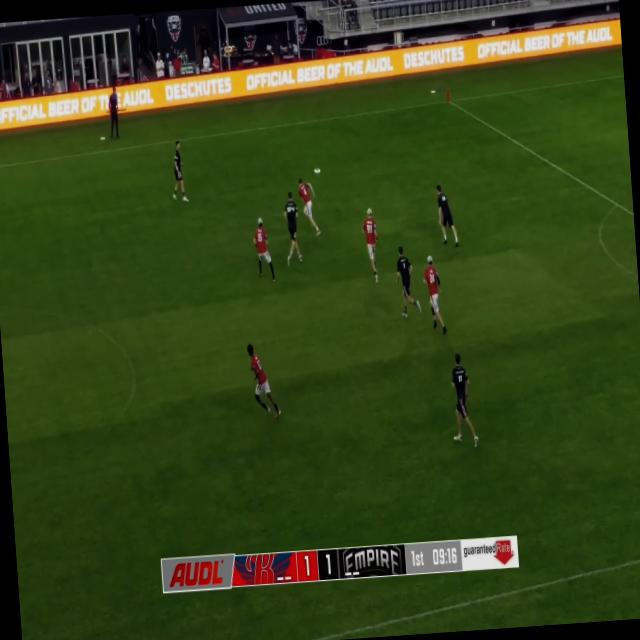Disc: (314, 168, 320, 174), (430, 90, 436, 94), (100, 136, 106, 140)
Player: (447, 352, 479, 448), (245, 341, 281, 419), (393, 244, 421, 318), (421, 254, 446, 336), (251, 216, 276, 284), (281, 190, 303, 266), (361, 208, 382, 286), (434, 182, 458, 250), (297, 176, 321, 236), (169, 140, 189, 202)
